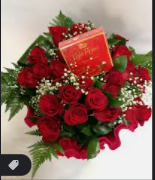RedRose: (34, 93, 65, 118), (83, 84, 109, 111), (65, 102, 90, 129), (36, 118, 60, 141), (19, 69, 40, 90)
